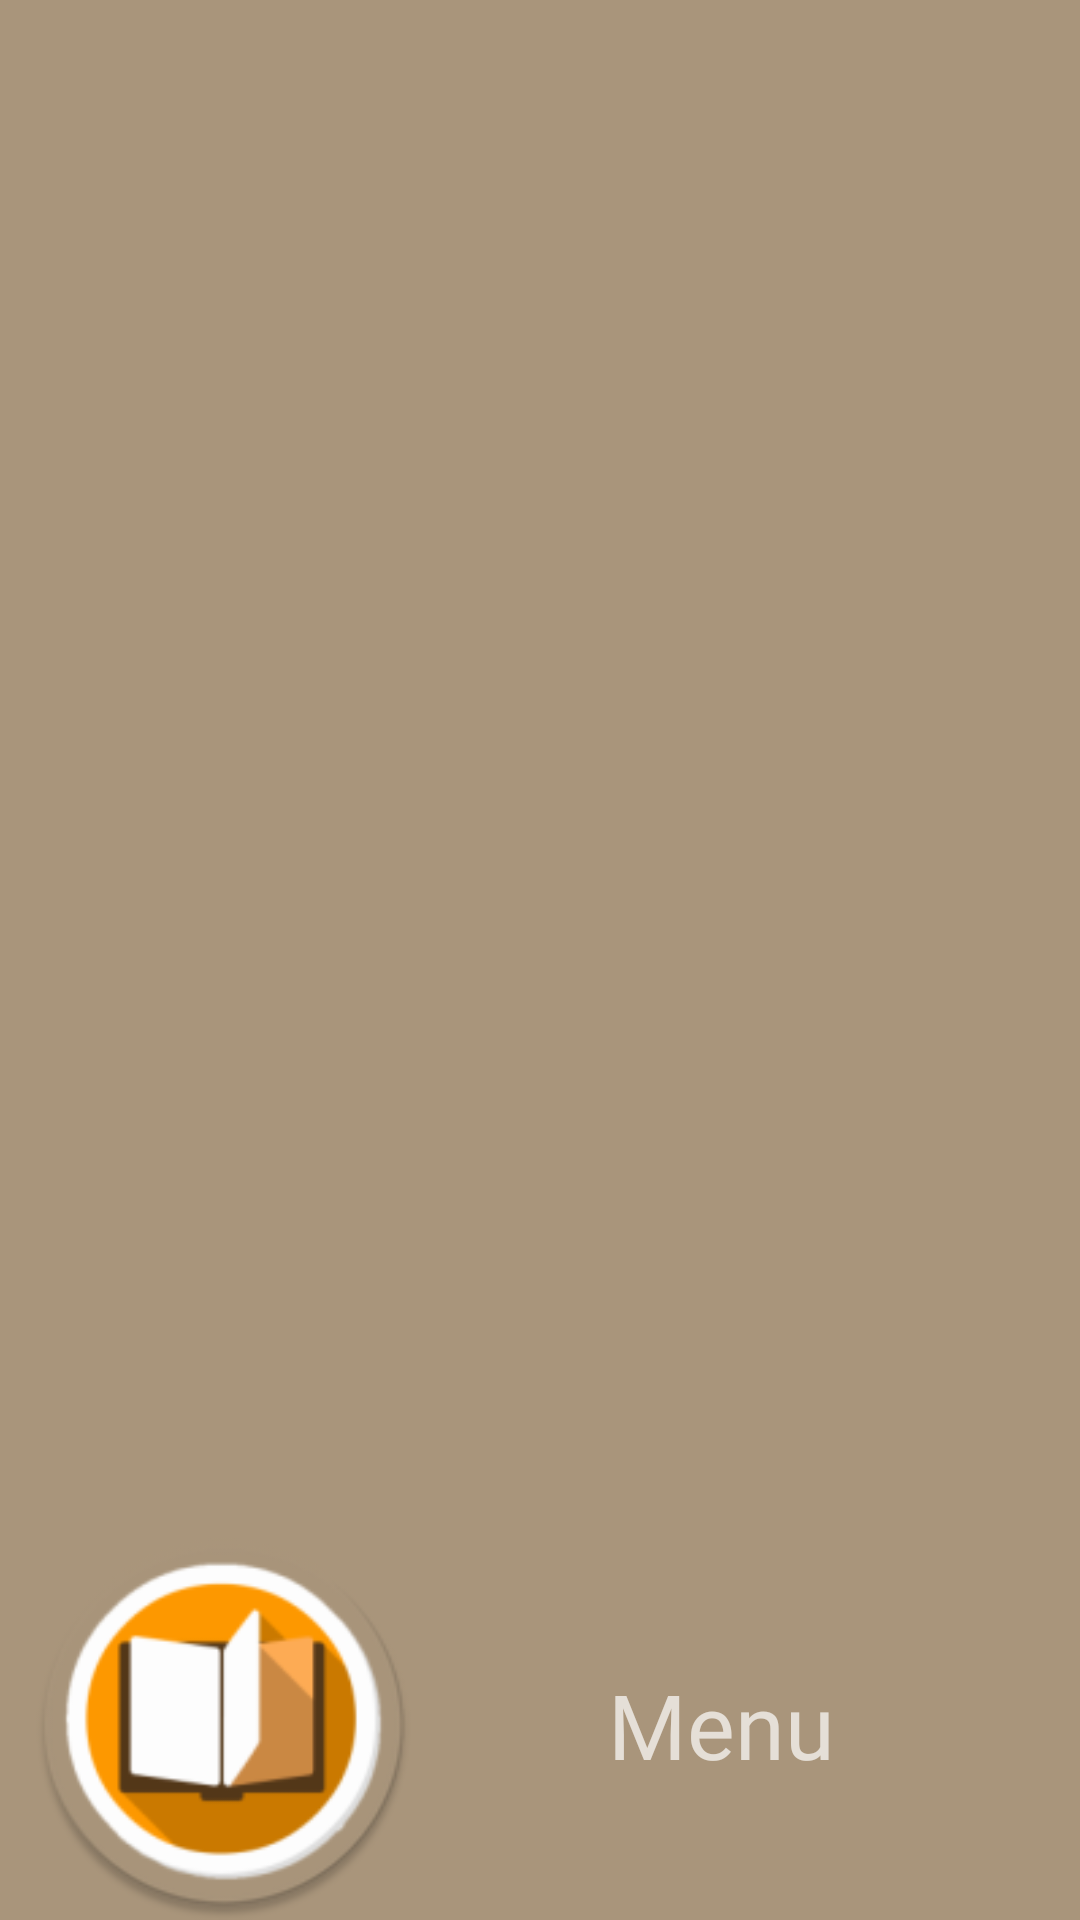

Icons on this 1080×1920 Android screen, each with its box as (x1, y1, x2, y2):
myappicon round: (62, 1563, 402, 1911)
